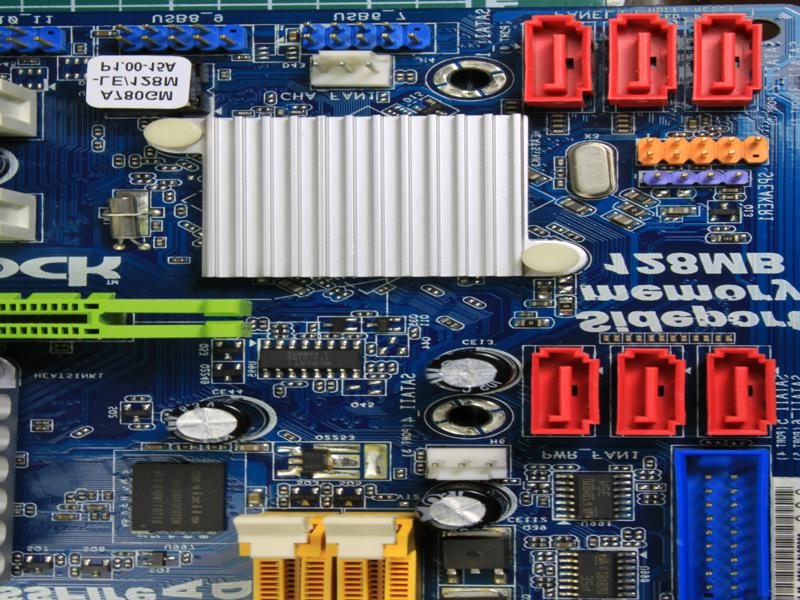Capacitor: (414, 481, 514, 532), (165, 395, 267, 444), (423, 349, 519, 396)
